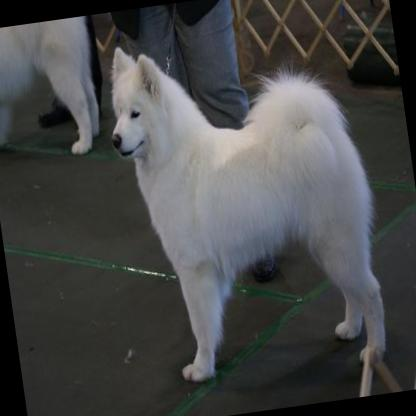Samoyed: (95, 10, 393, 394), (0, 15, 104, 165)
